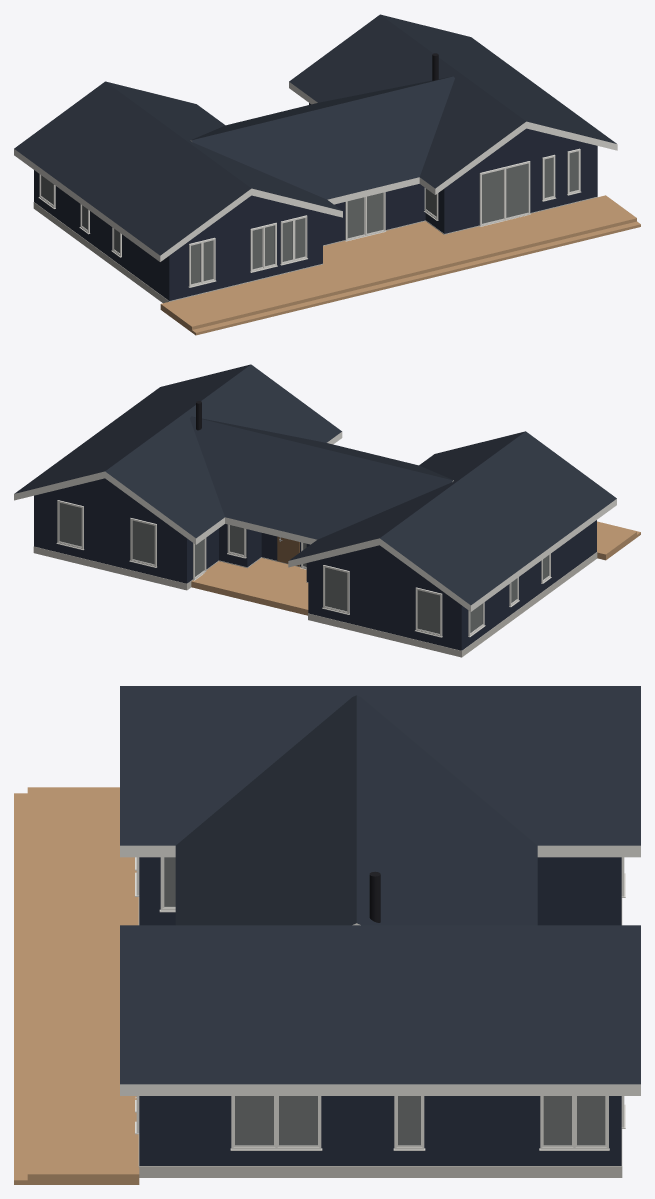
The model's file is teder187_c0_p0_m0.glb.
The picture shows the model from 3 angles, top to bottom: view 1: azimuth 30°, elevation 25°; view 2: azimuth 150°, elevation 25°; view 3: azimuth 270°, elevation 25°; orthographic projection. The views are drawn at different scales.
Visible parts, largest first — view 1: roof, deck, wall, glass, curtain, fascia, frame, plinth; view 2: roof, wall, deck, glass, curtain, fascia, plinth, frame, door; view 3: roof, deck, wall, curtain, glass, fascia, plinth, frame.
Boxes of the visible parts, <box> form: roof: <box>14,14,616,255</box>; deck: <box>160,195,640,335</box>; wall: <box>34,103,597,300</box>; glass: <box>41,151,578,284</box>; curtain: <box>41,151,577,283</box>; fascia: <box>14,82,617,261</box>; frame: <box>38,148,581,287</box>; plinth: <box>33,196,597,303</box>; roof: <box>14,364,616,605</box>; wall: <box>34,478,596,650</box>; deck: <box>191,521,640,615</box>; glass: <box>59,503,548,633</box>; curtain: <box>59,503,548,633</box>; fascia: <box>14,432,616,611</box>; plinth: <box>33,546,597,657</box>; frame: <box>56,500,551,637</box>; door: <box>277,536,299,566</box>; roof: <box>120,686,640,1084</box>; deck: <box>14,787,139,1184</box>; wall: <box>139,857,621,1165</box>; curtain: <box>164,857,605,1145</box>; glass: <box>164,857,605,1145</box>; fascia: <box>120,845,640,1095</box>; plinth: <box>138,897,622,1177</box>; frame: <box>135,857,625,1150</box>.
Bounding box in the file's own units: 21.93 × 5.66 × 14.62.
Materials: 12 (5 with a texture image).
